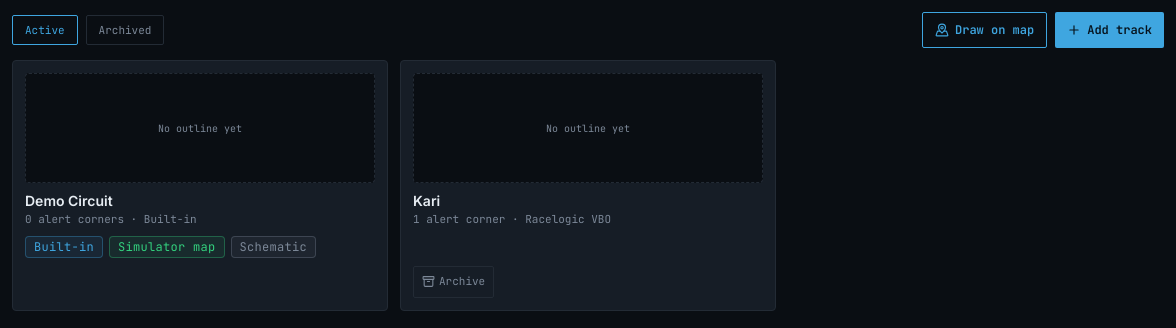
MapsBrowser › asks for the archived list with ?archived=only and shows Restore
What coordinates should you click on to do the following:
click the tab with test id "maps-tab-archived"
I would click on:
 (125, 30)
Its box is 86,15 -> 164,45.
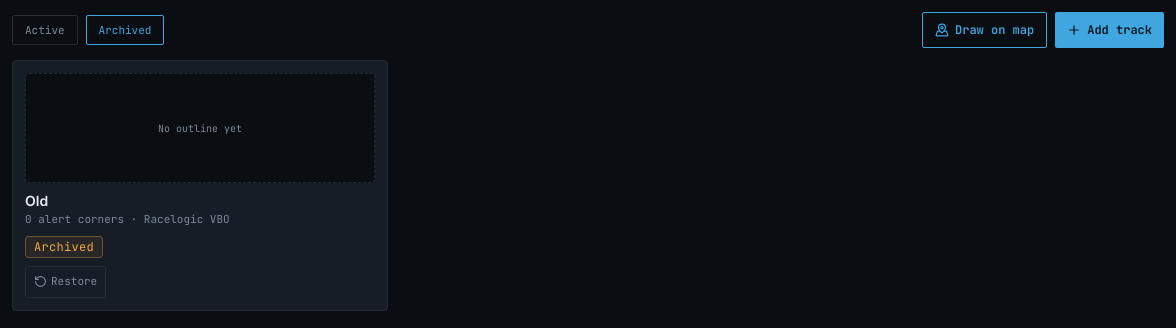
Check: the button with test id "restore-Old" is shown, box 25,266 -> 106,298
